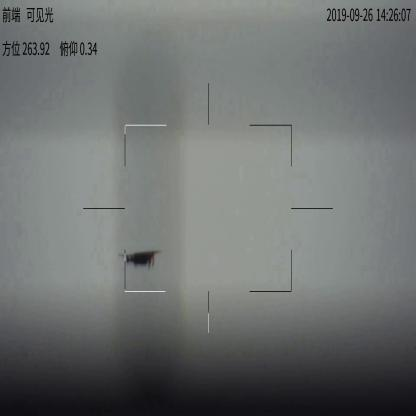uav: (129, 250, 169, 270)
